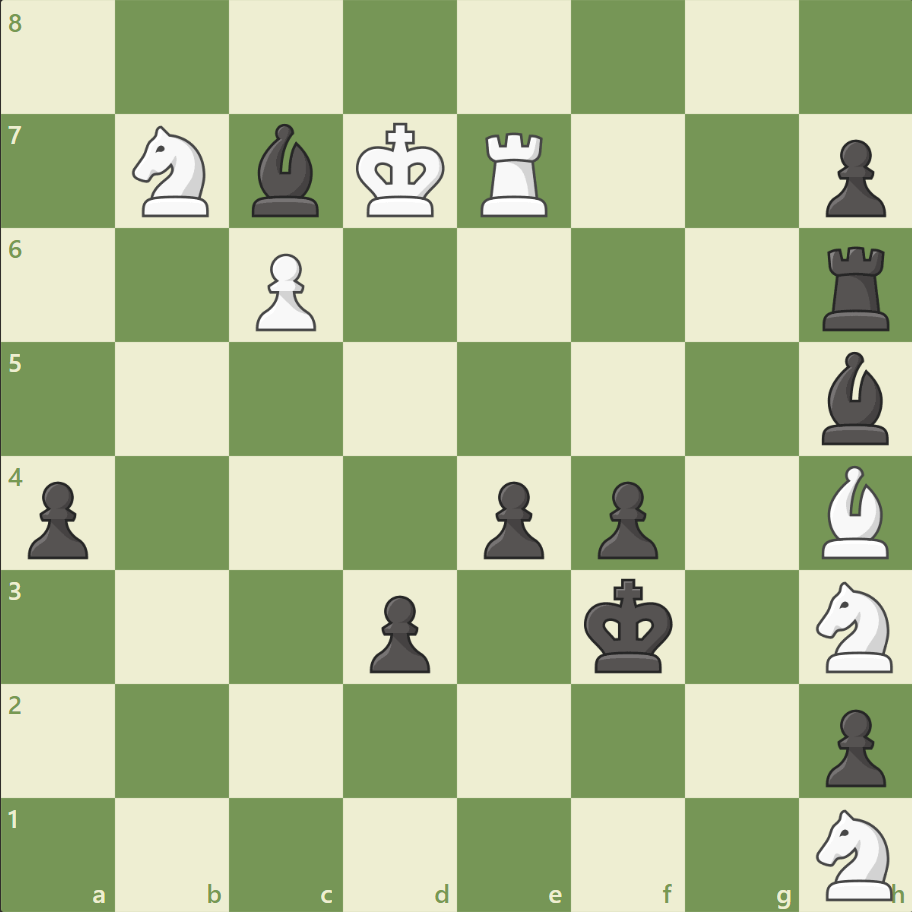B: (812, 460, 896, 563)
K: (351, 117, 451, 225)
N: (124, 121, 222, 223), (806, 575, 903, 677), (806, 802, 903, 904)
P: (247, 246, 322, 337)
R: (473, 125, 556, 222)
b: (244, 120, 328, 222), (812, 347, 896, 449)
k: (579, 571, 679, 679)
p: (20, 473, 95, 564), (474, 473, 549, 564), (815, 132, 889, 223), (588, 473, 662, 564), (361, 586, 435, 677), (815, 700, 889, 791)
r: (814, 239, 897, 336)
